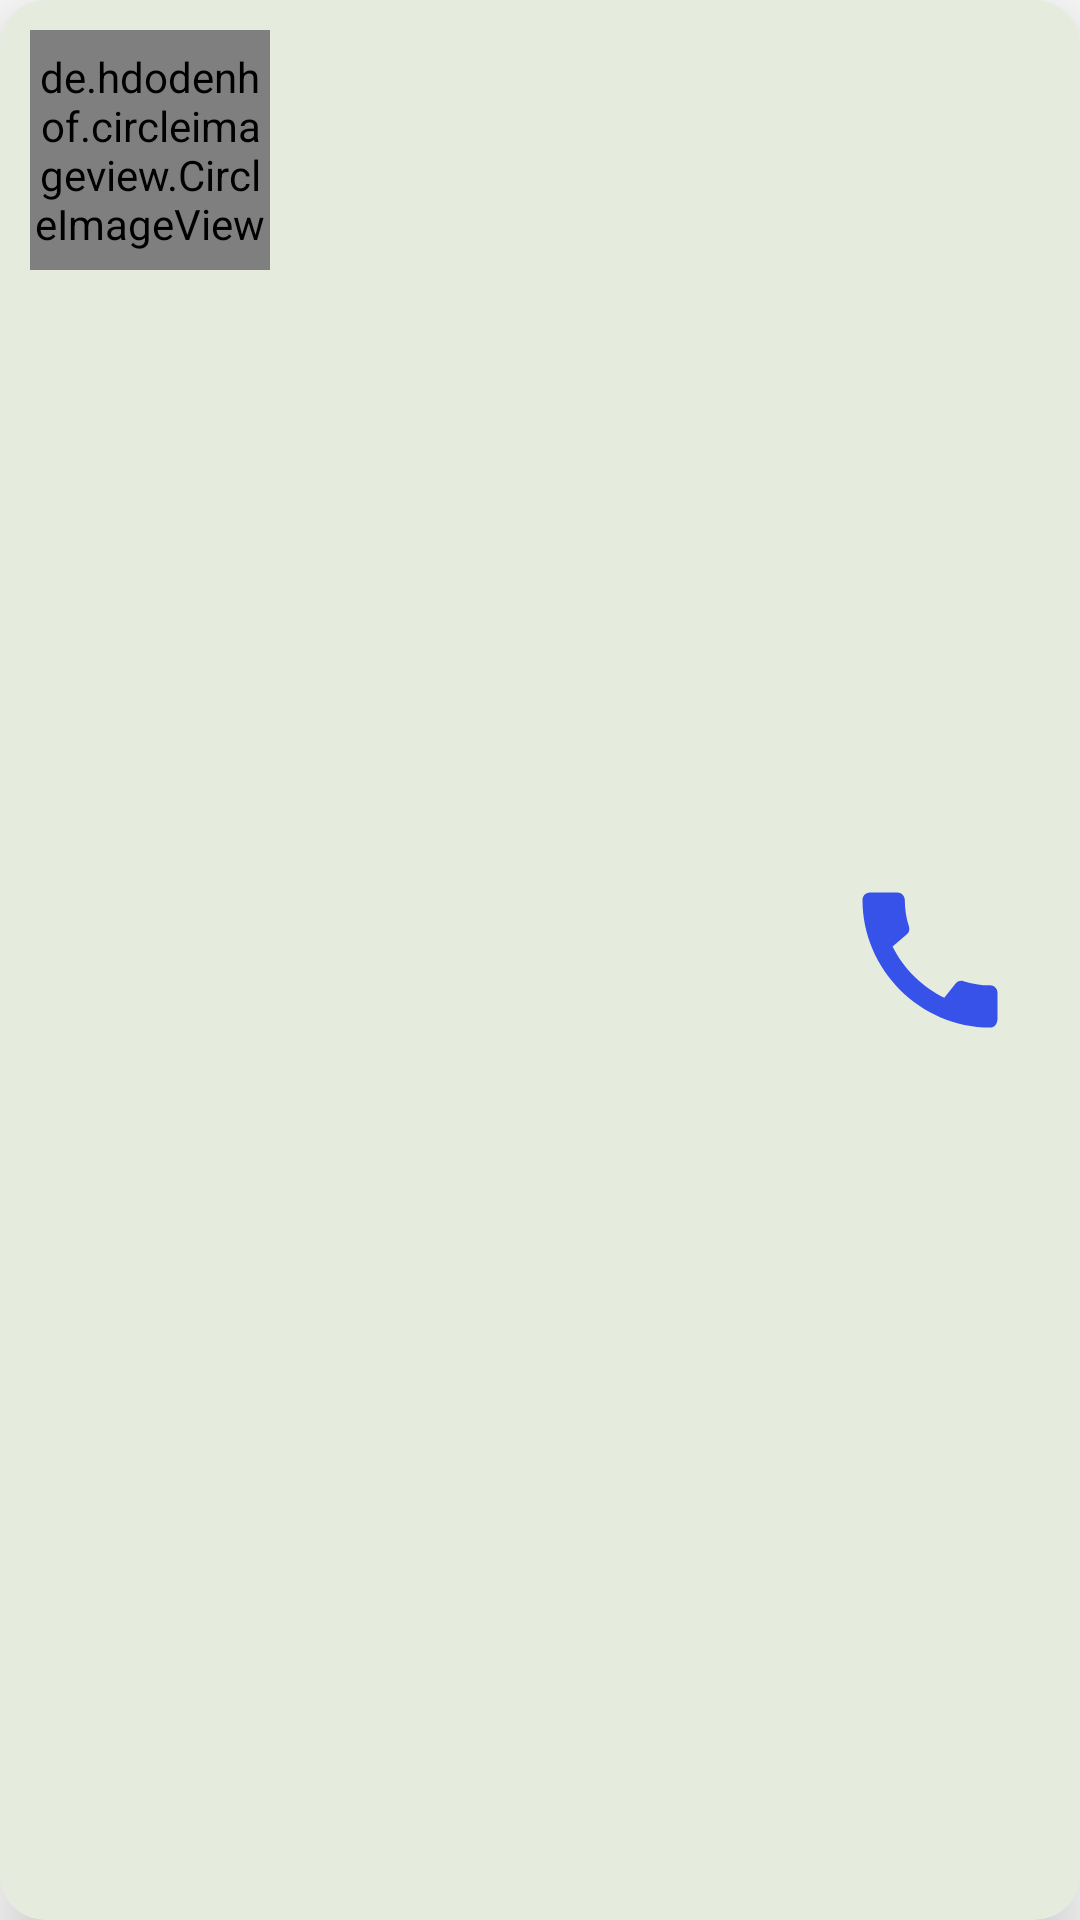

Icon bounding boxes for this 1080*1920 phone screenshot, format box(x1, y1, x2, y2):
Call Icon: box(862, 892, 998, 1028)
